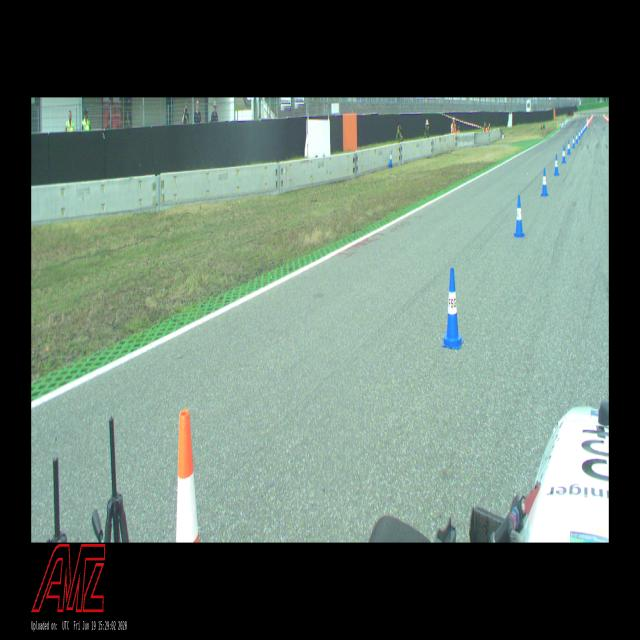blue_cone: (442, 268, 464, 350), (514, 196, 524, 237), (541, 168, 548, 196), (554, 154, 559, 175), (562, 146, 566, 163), (567, 140, 571, 155), (572, 136, 575, 148), (390, 151, 392, 167), (578, 129, 580, 140), (576, 133, 578, 143), (581, 127, 582, 136)
orange_cone: (176, 409, 200, 543)
